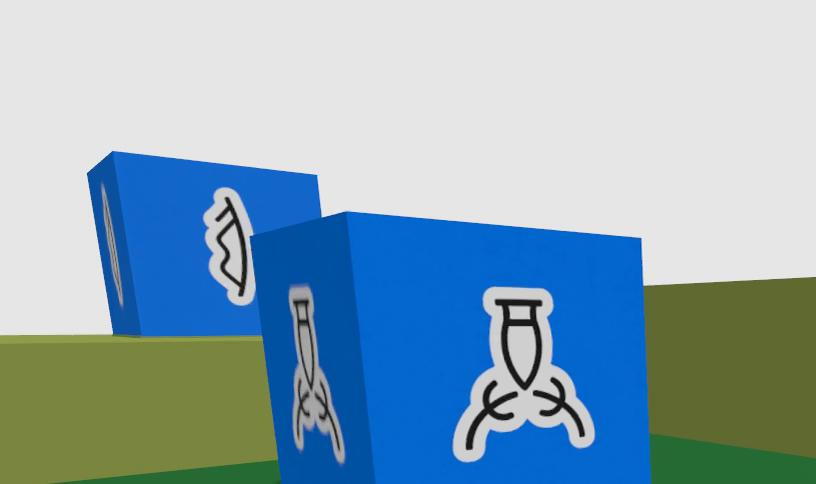KFS_REAL: (253, 212, 650, 484), (88, 152, 320, 337), (453, 287, 595, 462), (289, 286, 343, 463), (204, 188, 254, 306)
